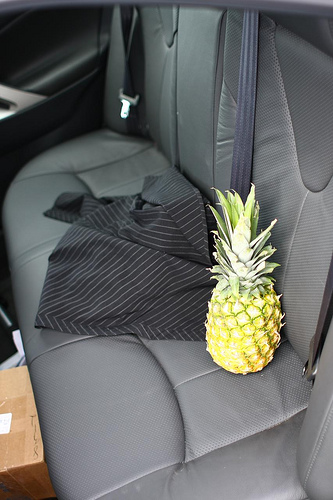pineapple: (202, 184, 287, 375)
